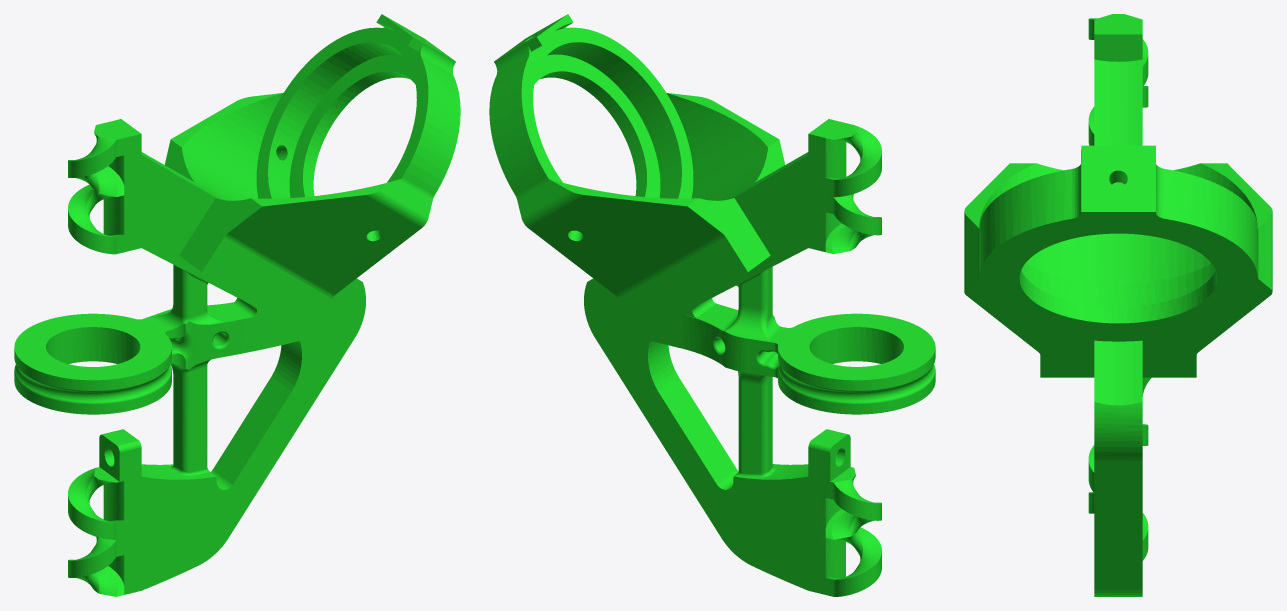
The model's file is bras_2_color.dae.
The picture shows the model from 3 angles, left to right: view 1: azimuth 30°, elevation 25°; view 2: azimuth 150°, elevation 25°; view 3: azimuth 270°, elevation 25°; orthographic projection. The views are drawn at different scales.
Visible parts, largest first — view 1: bras_2; view 2: bras_2; view 3: bras_2.
Boxes of the visible parts, x1,y1,x2,y2 form: bras_2: (14,14,460,596); bras_2: (489,14,935,596); bras_2: (964,14,1272,596).
Bounding box in the file's own units: 76.13 × 41.25 × 86.29.
